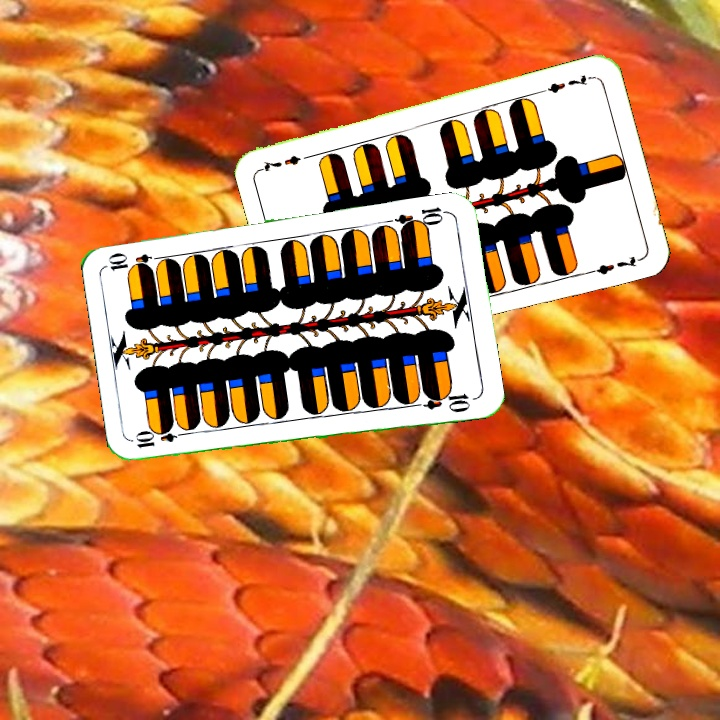E10: (392, 203, 451, 234), (131, 426, 191, 451)
E7: (538, 70, 596, 96)
